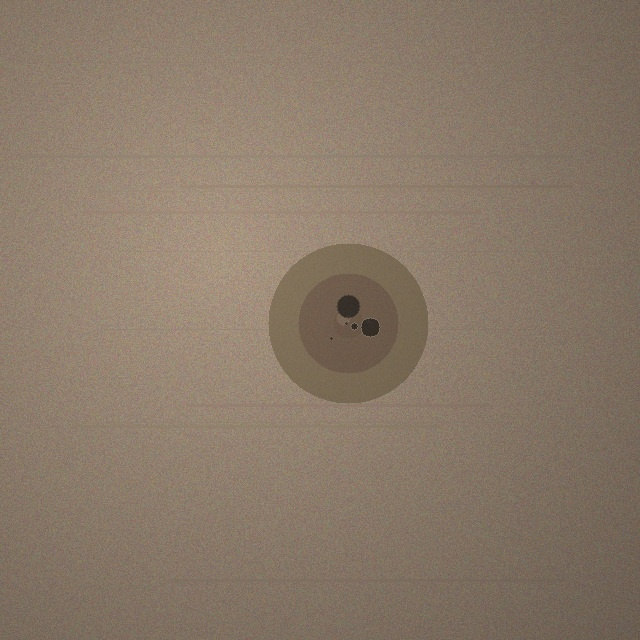shrinkage: (268, 243, 428, 403)
